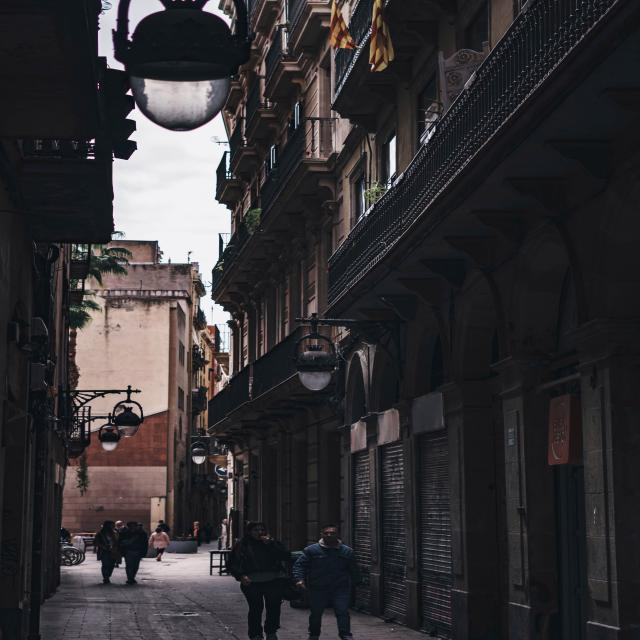adult: (293, 524, 367, 640), (227, 522, 291, 640), (120, 521, 148, 583), (94, 521, 120, 583)
